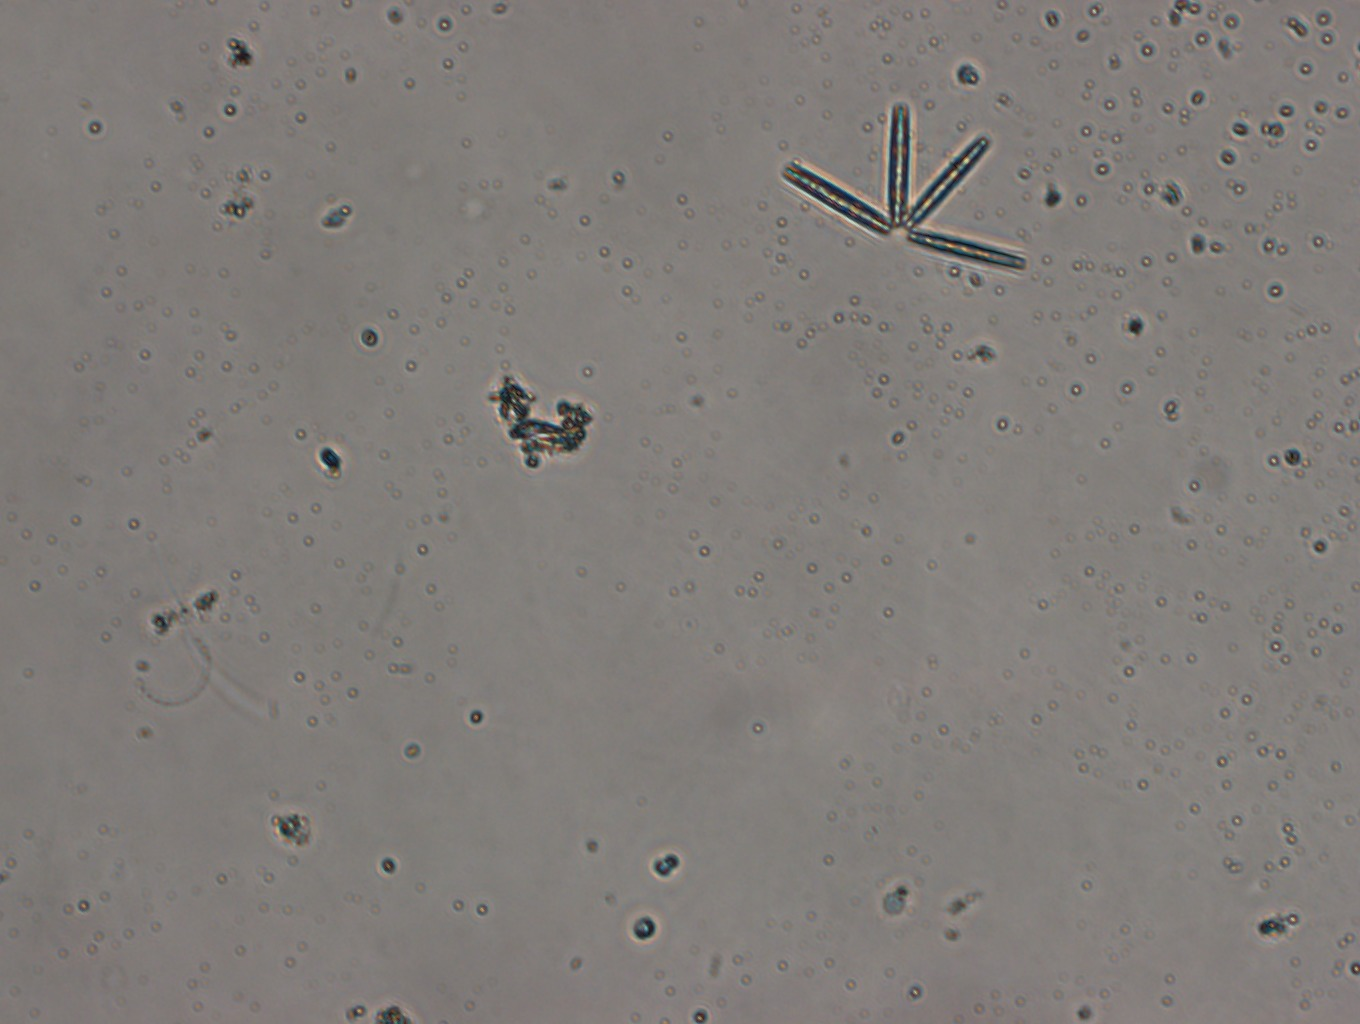thalassionema nitzschioides: (781, 98, 1025, 272)
